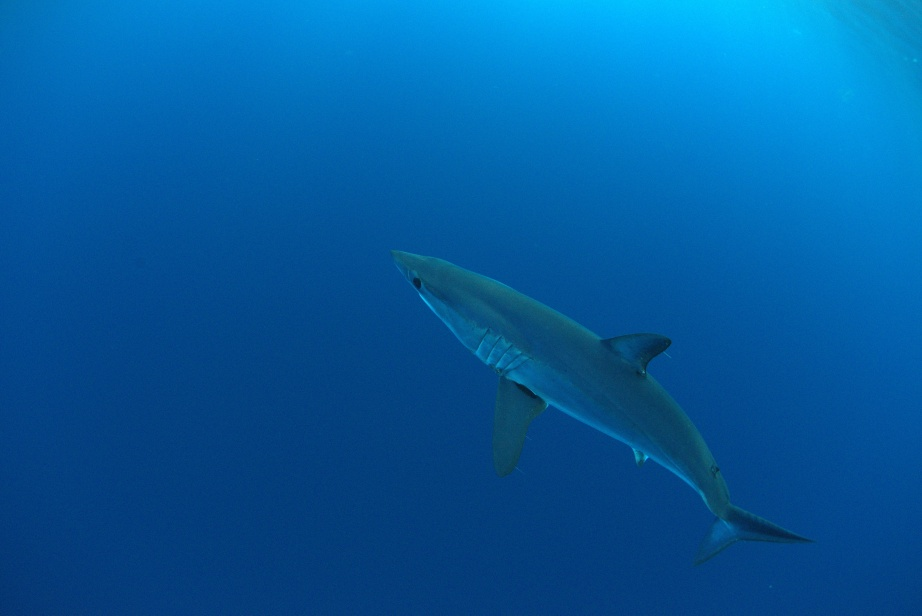Mako: (355, 227, 824, 573)
